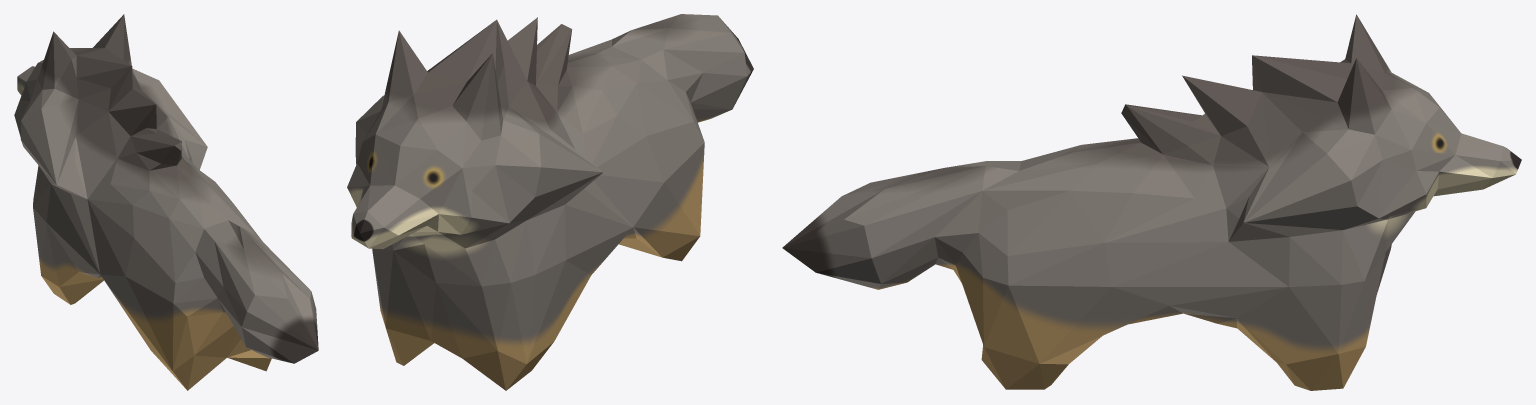
The model's file is animal_wolf_timber_blob.obj.
3 renders of one model, left to right at view 1: azimuth 30°, elevation 25°; view 2: azimuth 150°, elevation 25°; view 3: azimuth 270°, elevation 25°, orthographic. The views are drawn at different scales.
Visible parts, largest first — view 1: animal_wolf_timber_blob; view 2: animal_wolf_timber_blob; view 3: animal_wolf_timber_blob.
Boxes of the visible parts, box(x1,y1,x2,y2) form: animal_wolf_timber_blob: box(14, 14, 318, 390); animal_wolf_timber_blob: box(347, 14, 753, 390); animal_wolf_timber_blob: box(782, 14, 1521, 390).
Bounding box in the file's own units: 0.45 × 0.7382 × 1.51.
